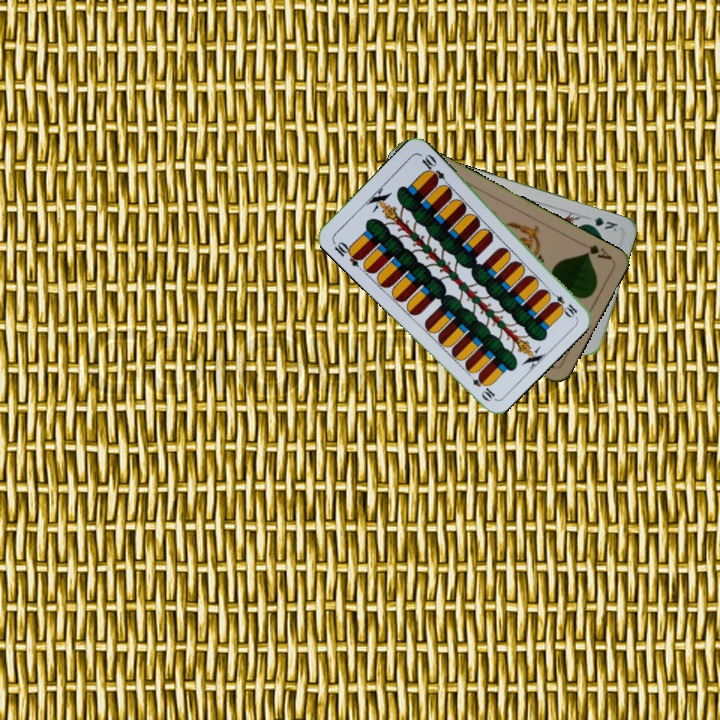E10: (545, 286, 580, 319), (329, 237, 365, 269)
GA: (580, 241, 614, 262)
GK: (580, 213, 620, 234)
